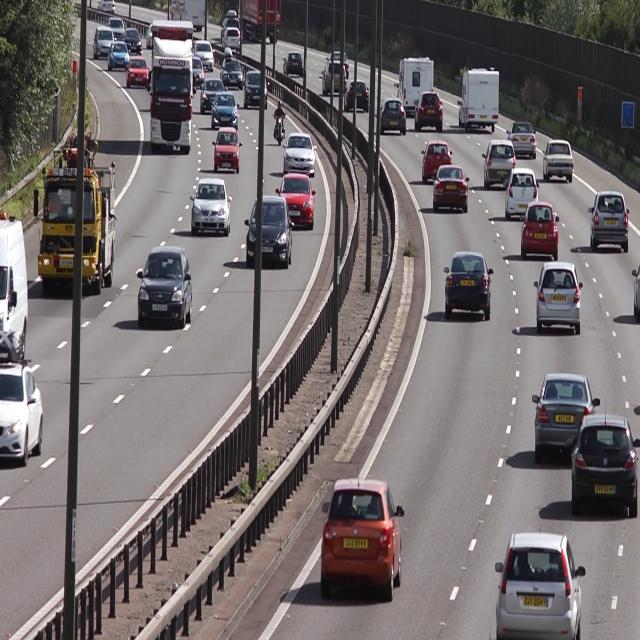Car: (36, 132, 114, 300), (492, 531, 586, 640), (318, 480, 402, 600), (566, 413, 640, 512), (531, 374, 598, 458), (150, 20, 192, 153), (134, 248, 190, 329), (532, 261, 583, 334), (440, 251, 496, 317), (243, 194, 290, 270), (454, 64, 500, 136), (586, 190, 629, 253), (272, 172, 319, 229), (189, 177, 232, 239), (392, 54, 434, 114), (519, 202, 559, 262), (503, 168, 537, 222), (432, 163, 470, 210), (479, 141, 515, 190), (418, 137, 452, 185), (412, 87, 445, 136), (281, 134, 316, 179), (212, 127, 240, 176), (541, 140, 573, 182), (504, 119, 537, 159), (377, 98, 407, 136), (241, 67, 267, 109), (210, 91, 239, 127)
